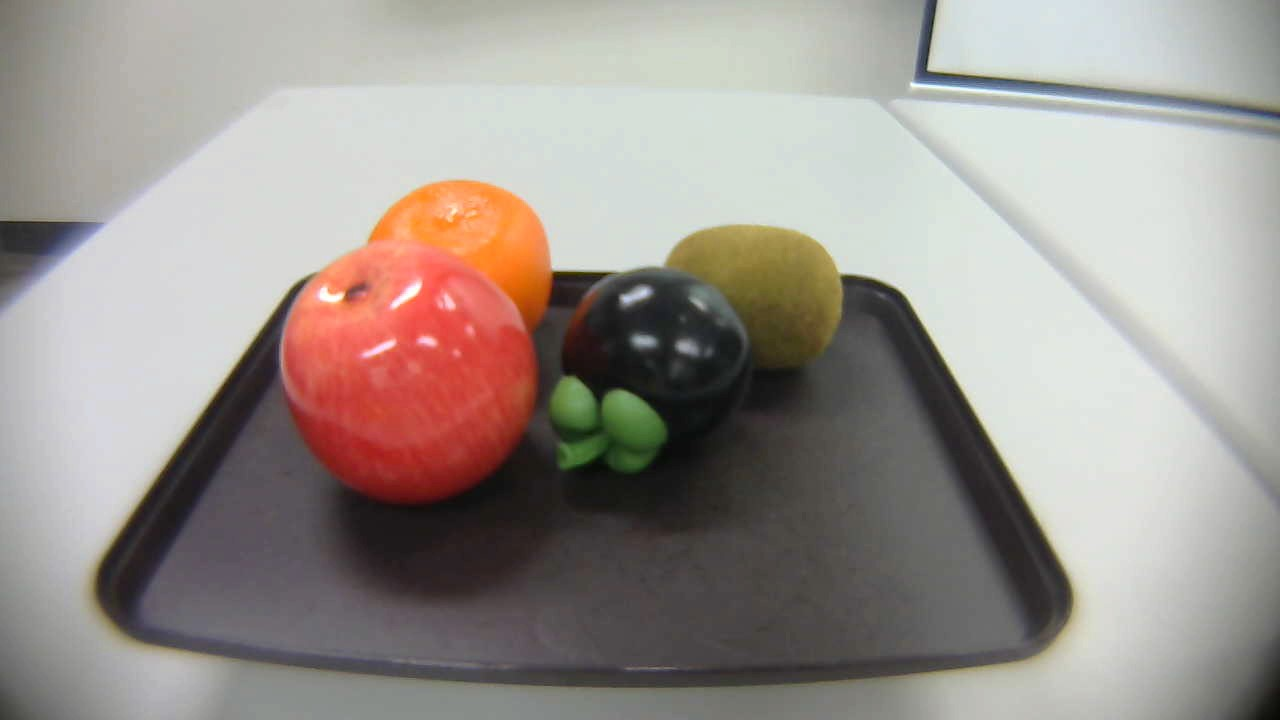kiwi fruit: (670, 229, 840, 386)
mangosteen: (548, 265, 761, 489)
orange: (363, 173, 555, 359)
red apple: (280, 243, 550, 516)
